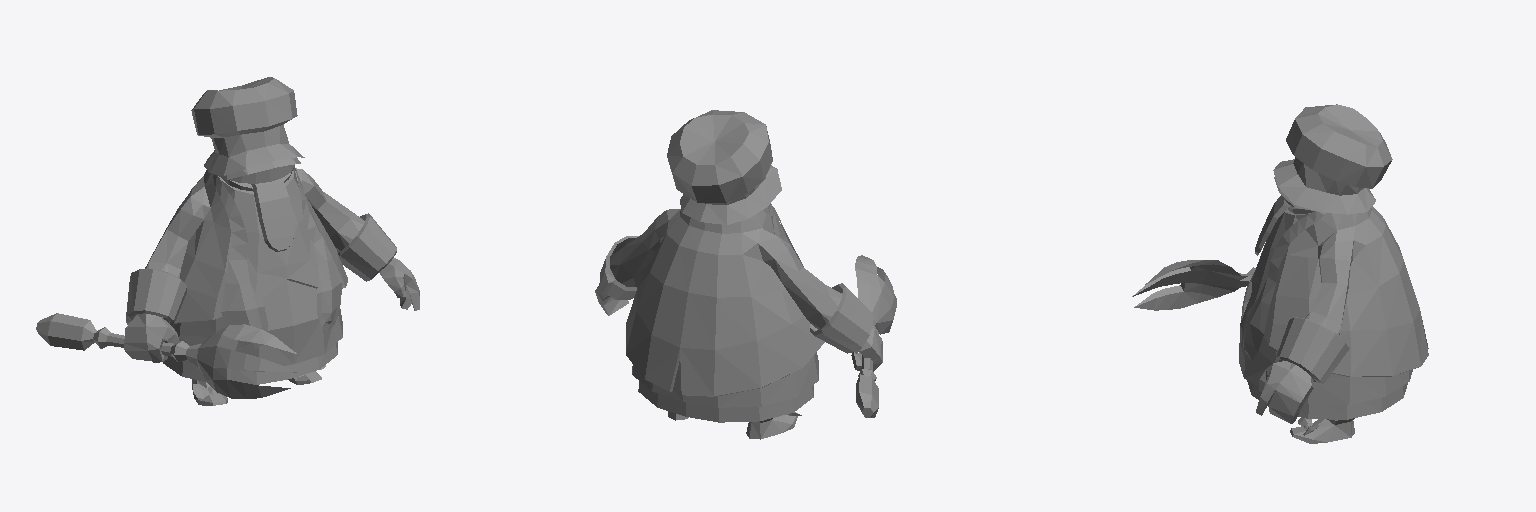
File: quina_02.obj
3 views of the same model, side by side, from view 1: azimuth 30°, elevation 25°; view 2: azimuth 150°, elevation 25°; view 3: azimuth 270°, elevation 25° (orthographic).
Parts seen in each view (by area): view 1: Object016; view 2: Object016; view 3: Object016.
Boxes of the visible parts, x1,y1,x2,y2 form: Object016: [36, 77, 419, 405]; Object016: [595, 110, 896, 439]; Object016: [1132, 104, 1428, 443].
Size of the model in its own units: 134 by 118 by 106.